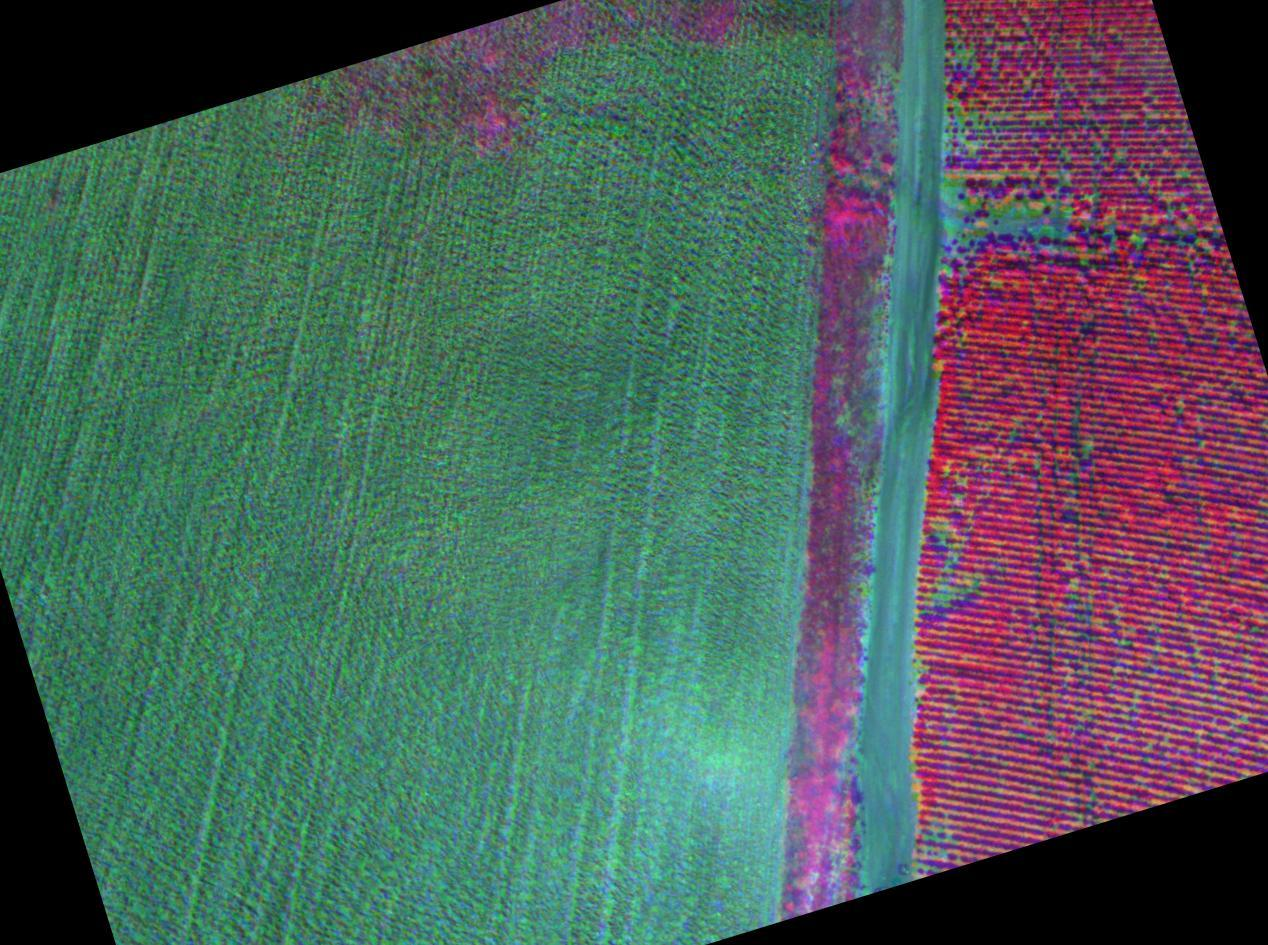dc: (1015, 211, 1021, 217), (952, 218, 958, 224), (1055, 220, 1061, 226), (1133, 237, 1139, 243), (937, 594, 943, 600)
